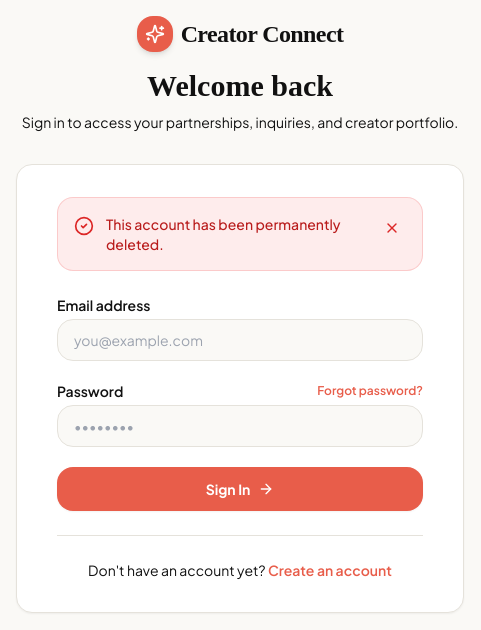
Test case: Phase 3B Comprehensive Frontend E2E & Flow Verification › 6. Account Lifecycle & Banners (Phase 13B) › renders LoginPage with dismissible accountDeleted banner when navigated with state.accountDeleted
The image size is (481, 630).
Check: the text "This account has been permanently deleted." is shown, box x1=106 y1=214 x2=366 y2=254
Click the button named "Dismiss banner" at (392, 228), box x1=378 y1=214 x2=406 y2=242
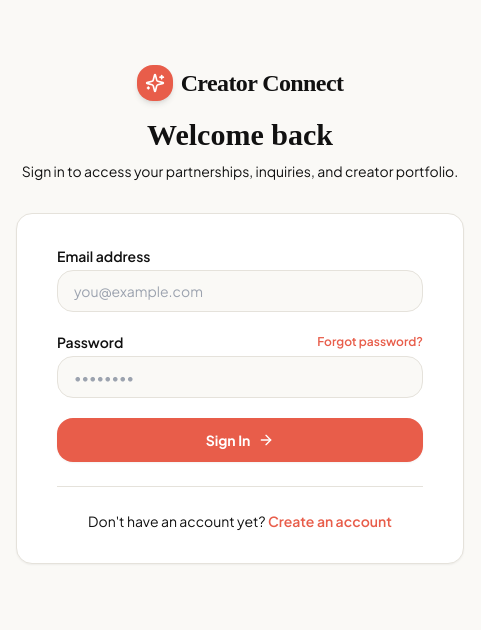
Check: the text "This account has been permanently deleted." is gone
